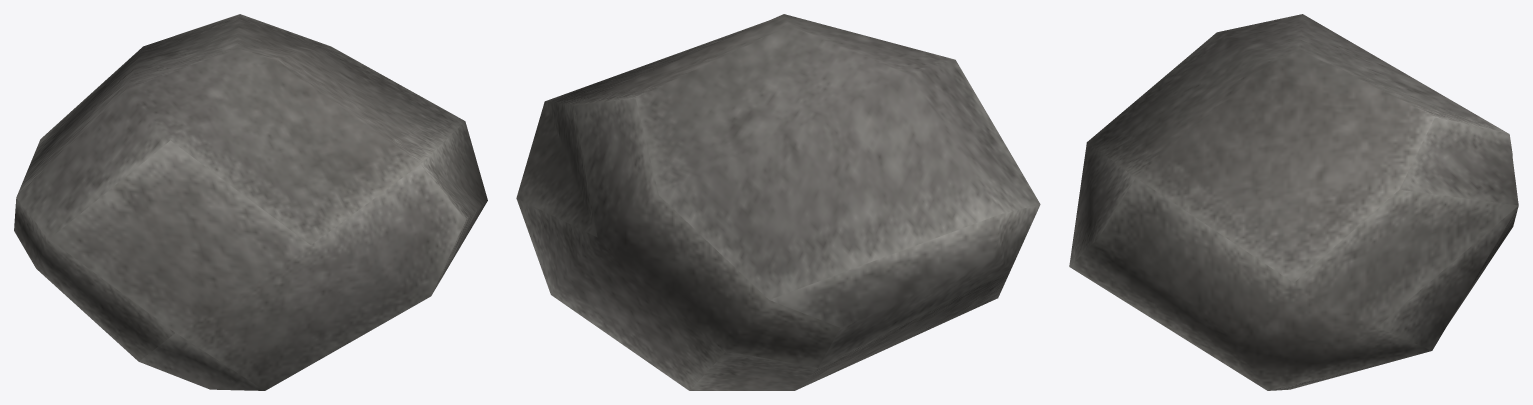
The model's file is Rock_05.fbx.
3 renders of one model, left to right at view 1: azimuth 30°, elevation 25°; view 2: azimuth 150°, elevation 25°; view 3: azimuth 270°, elevation 25°, orthographic. The views are drawn at different scales.
Visible parts, largest first — view 1: Rock_05; view 2: Rock_05; view 3: Rock_05.
Part boxes in pixels (x1,y1,x2,y2): Rock_05: (14,14,487,390); Rock_05: (516,14,1040,390); Rock_05: (1069,14,1518,390).
Size of the model in its own units: 1.34 by 0.922 by 1.22.
Materials: 1 (1 with a texture image).
